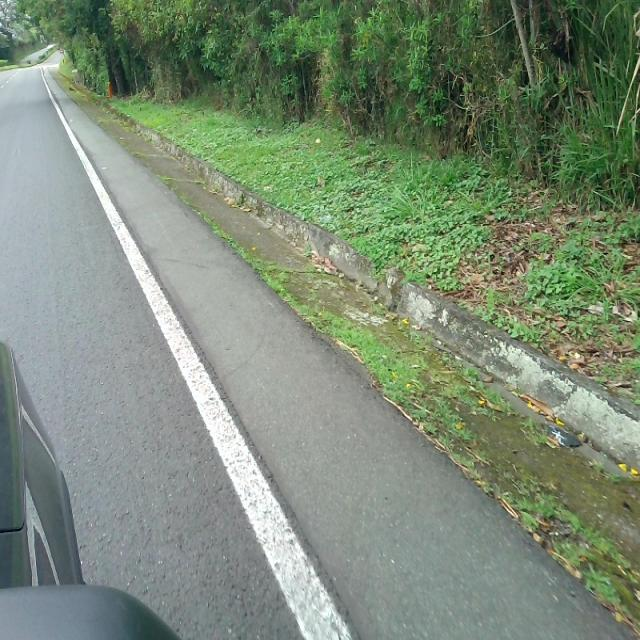DITCH: (11, 41, 638, 638), (47, 52, 638, 637)
